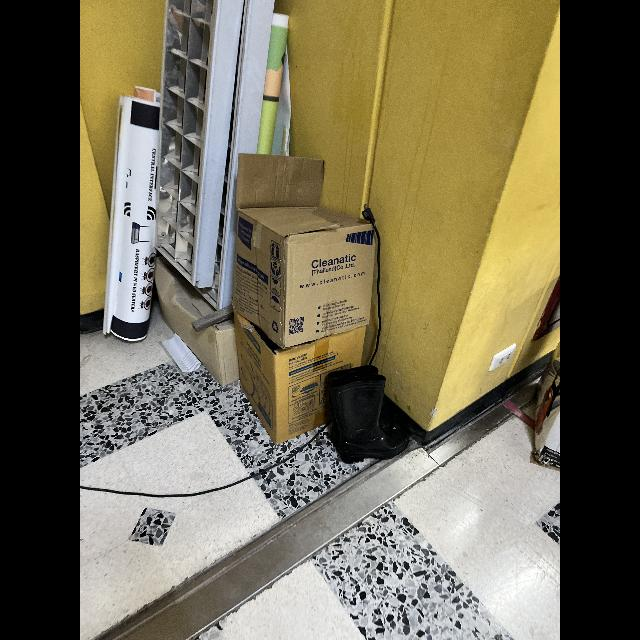cardboard_box: (222, 140, 378, 352), (231, 312, 369, 438), (155, 251, 245, 385)
